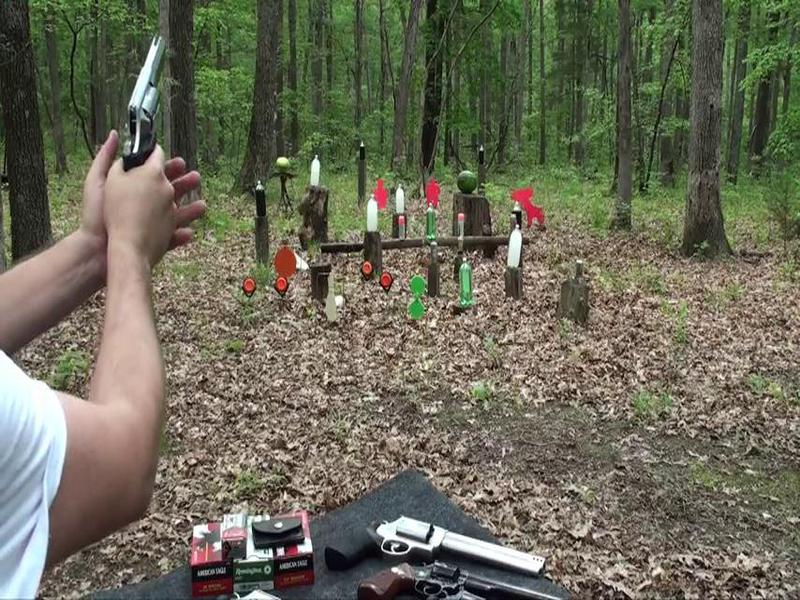Revolver: (115, 24, 185, 196)
